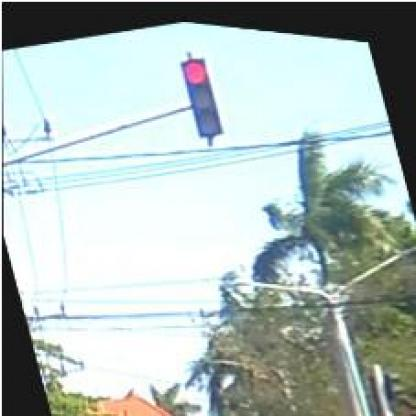red: (176, 46, 224, 134)
